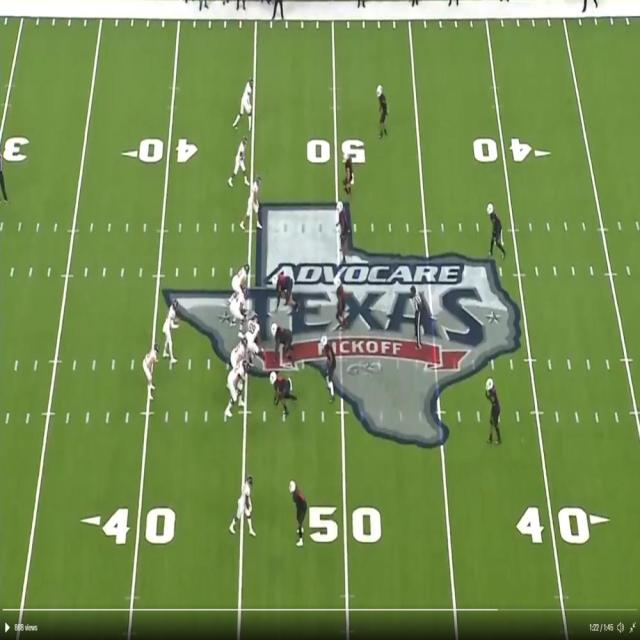center: (246, 321, 262, 366)
db: (288, 478, 305, 540), (487, 380, 501, 442), (488, 203, 502, 254), (346, 158, 359, 196), (378, 85, 388, 134)
lb: (322, 330, 339, 388), (337, 202, 350, 256), (337, 276, 348, 324)
qb: (163, 302, 177, 366)
skill: (242, 178, 266, 232), (234, 479, 256, 535), (229, 139, 248, 185), (237, 80, 253, 130), (145, 347, 155, 393)
